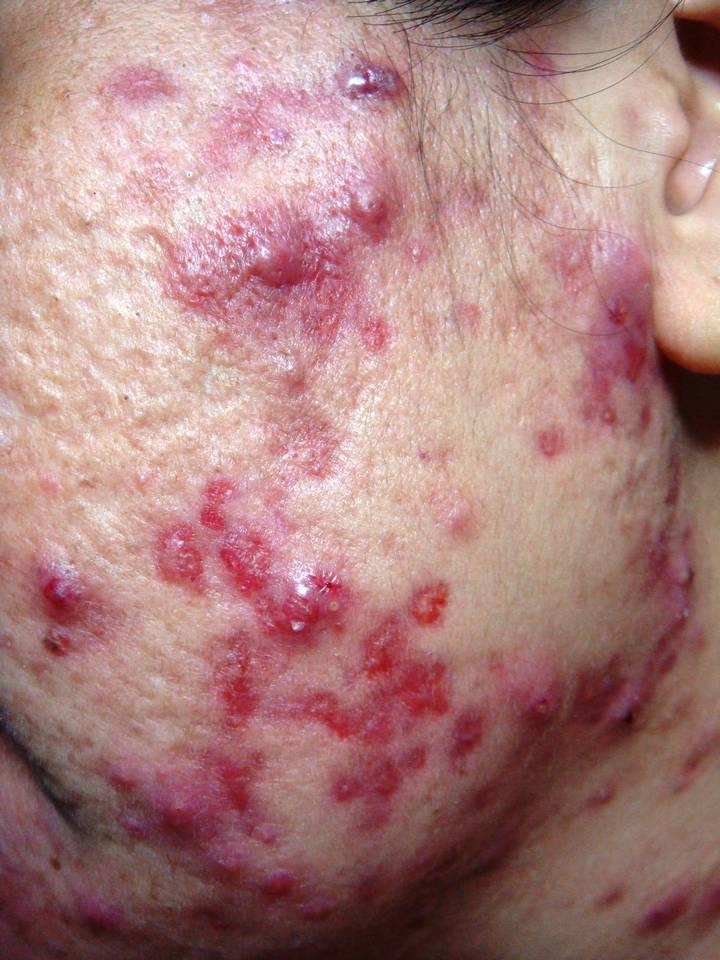Acne: (12, 533, 102, 622), (328, 47, 400, 130), (228, 225, 300, 305), (270, 562, 332, 647), (273, 347, 322, 407)
